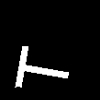half_double_crochet: (16, 46, 68, 86)
